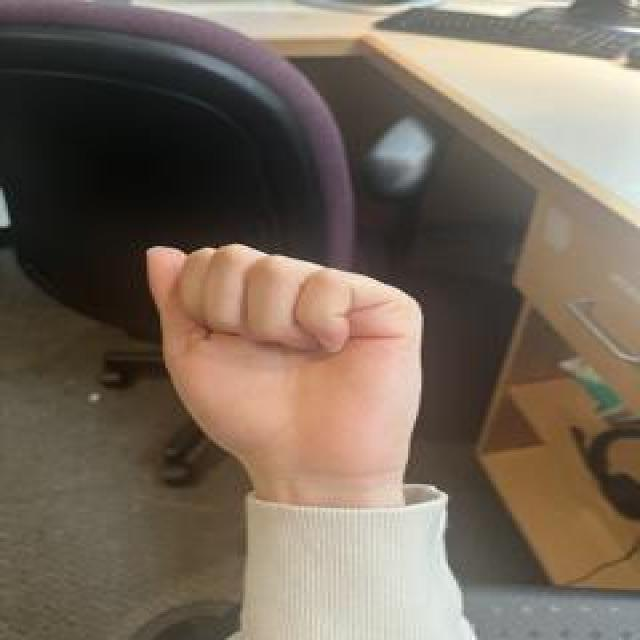A: (136, 238, 427, 460)
